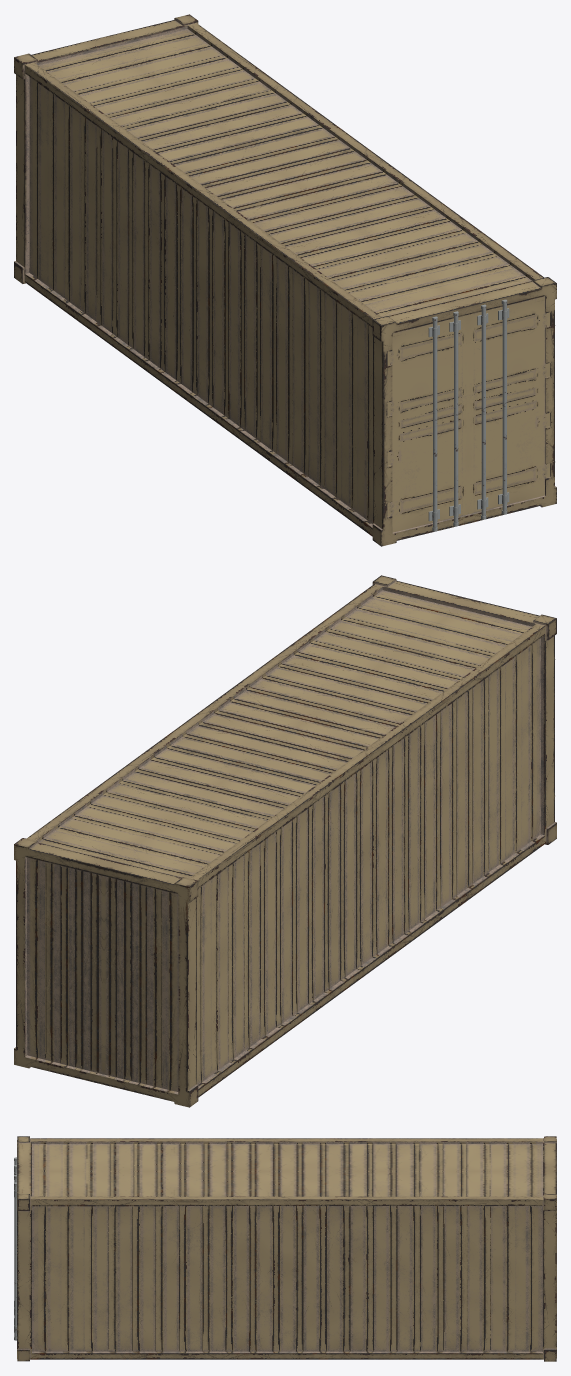
File: container.fbx
3 views of the same model, one above another, from view 1: azimuth 30°, elevation 25°; view 2: azimuth 150°, elevation 25°; view 3: azimuth 270°, elevation 25° (orthographic). The views are drawn at different scales.
Visible parts, largest first — view 1: container; view 2: container; view 3: container.
Part boxes in pixels (box(x1,y1,x2,y2)): container: box(14, 14, 556, 546); container: box(14, 575, 556, 1107); container: box(14, 1136, 556, 1361).
Bounding box in the file's own units: 210 × 252 × 764.
